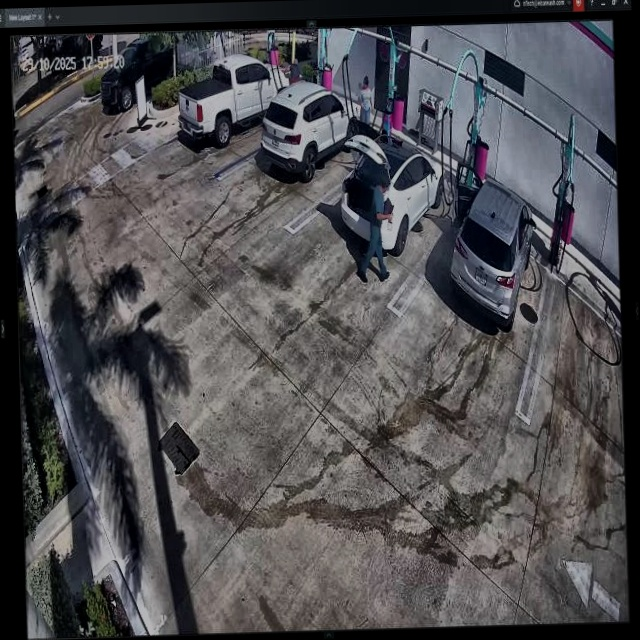Car: (454, 160, 538, 329), (343, 132, 446, 252), (179, 56, 306, 145), (260, 80, 362, 179)
